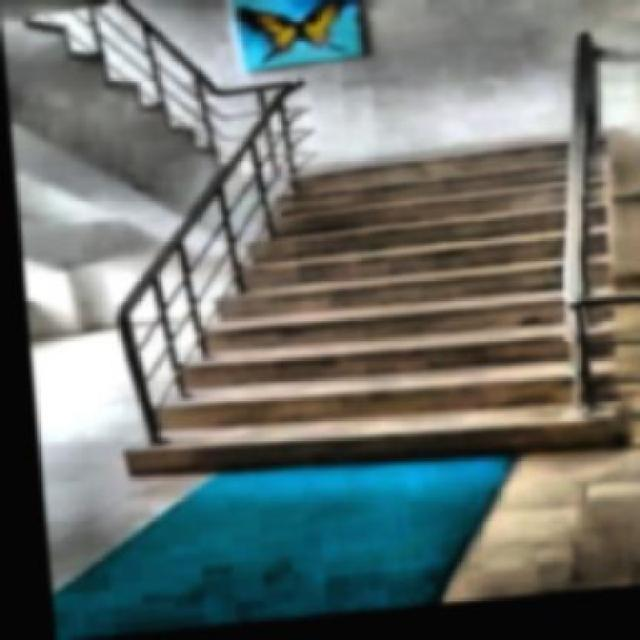stair: (106, 146, 628, 497)
